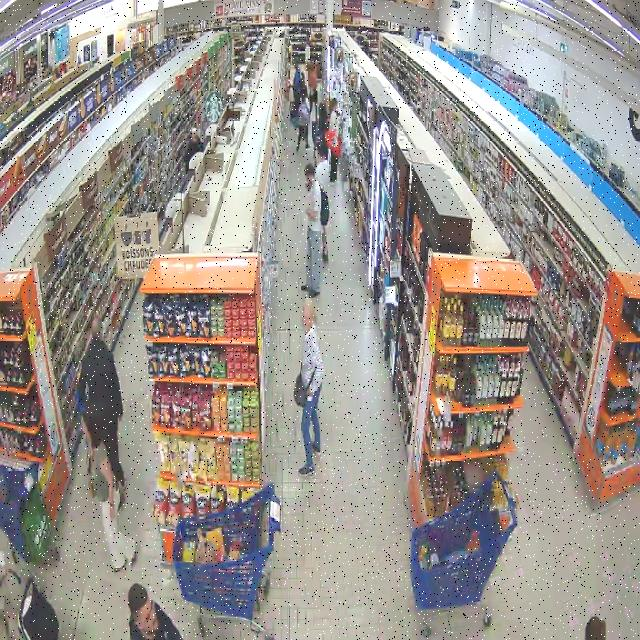bags: (294, 371, 315, 407), (320, 187, 329, 226)
hands: (110, 502, 115, 520), (306, 208, 311, 217), (307, 395, 312, 402), (119, 415, 123, 422)
person: (79, 319, 126, 501), (84, 415, 136, 572), (299, 300, 323, 476), (129, 584, 181, 639), (301, 164, 321, 297), (316, 141, 329, 198)
